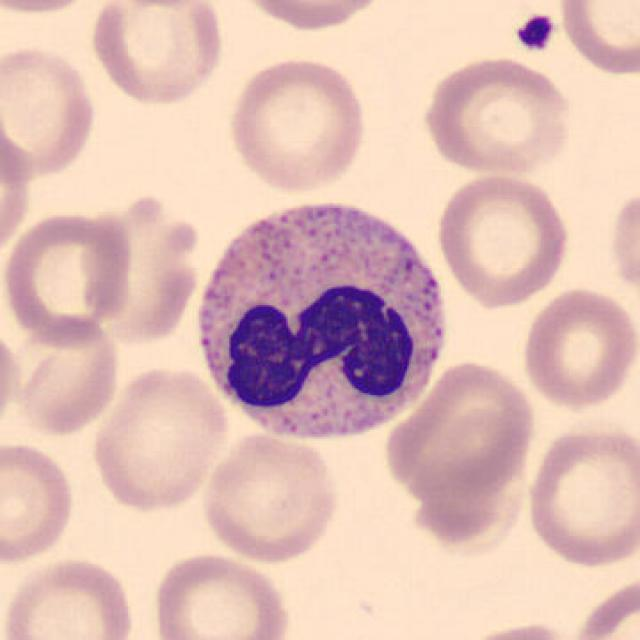Neutrophil: (185, 185, 455, 455)
Platelets: (512, 10, 558, 54)
RBC: (380, 356, 540, 503), (87, 363, 231, 515), (222, 53, 370, 196), (76, 191, 205, 349), (418, 53, 576, 178), (198, 428, 342, 564), (0, 206, 137, 348), (432, 171, 572, 309), (521, 420, 638, 571), (85, 0, 227, 109), (518, 284, 638, 412), (9, 314, 124, 439), (0, 40, 100, 182), (148, 550, 295, 640), (0, 552, 139, 640), (0, 437, 78, 568), (554, 0, 638, 79), (0, 105, 37, 266), (229, 0, 391, 33), (564, 571, 638, 640), (606, 182, 640, 305), (0, 321, 23, 442), (452, 619, 583, 640), (0, 0, 108, 16)
